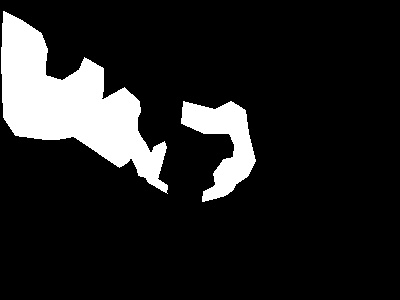Fire: (1, 55, 182, 193)
